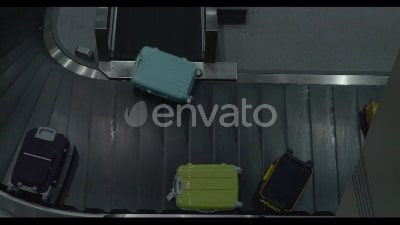baggage: (126, 45, 206, 108), (10, 127, 74, 204), (256, 147, 317, 216), (171, 166, 246, 211)
